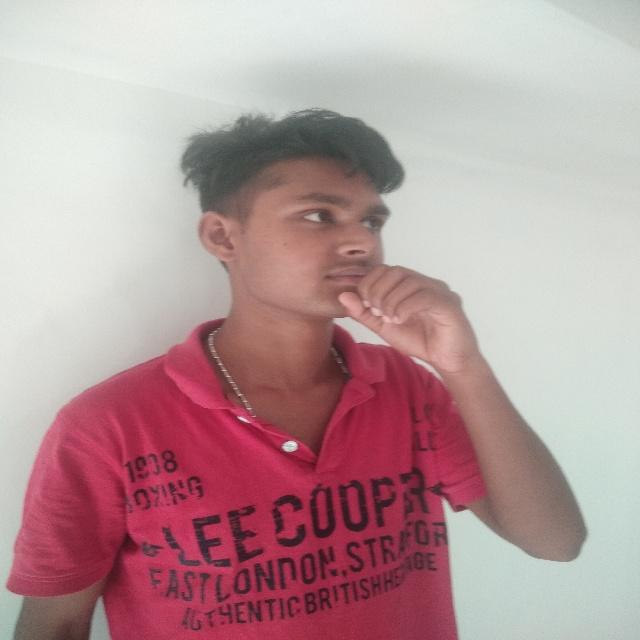Fist Mouth: (186, 110, 480, 401)
